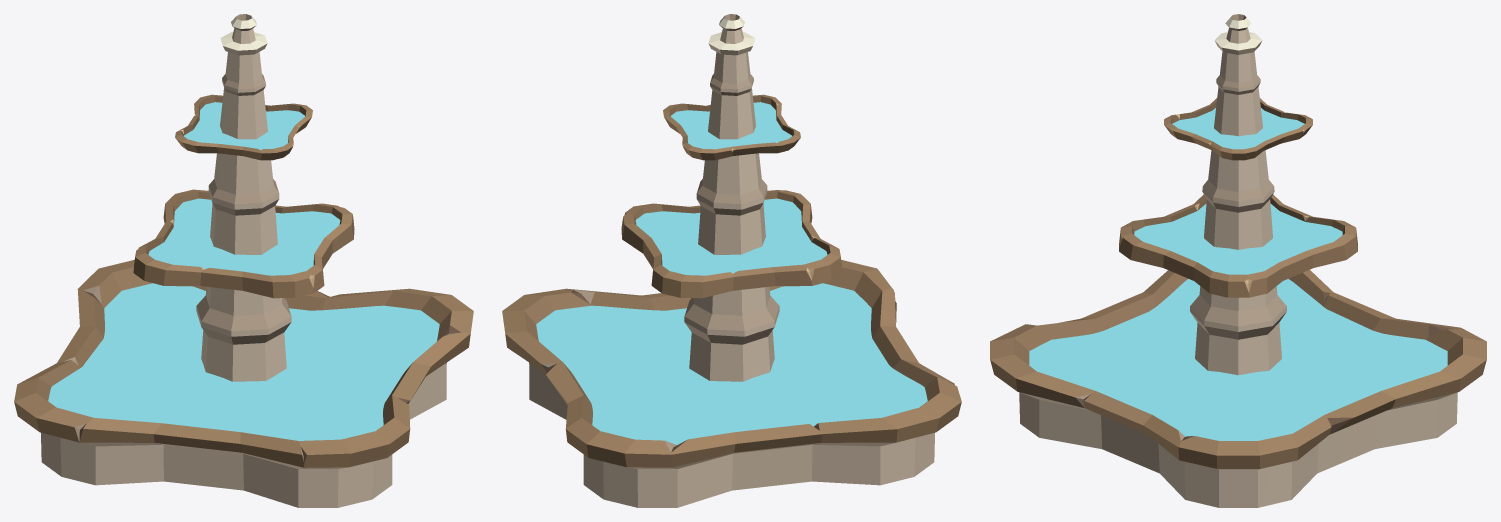
The model's file is Fountain_01.glb.
3 renders of one model, left to right at view 1: azimuth 30°, elevation 25°; view 2: azimuth 150°, elevation 25°; view 3: azimuth 270°, elevation 25°, orthographic.
Parts seen in each view (by area): view 1: Fountain_01; view 2: Fountain_01; view 3: Fountain_01.
Boxes of the visible parts, x1,y1,x2,y2 form: Fountain_01: (14, 14, 473, 507); Fountain_01: (502, 14, 961, 507); Fountain_01: (990, 14, 1486, 507).
Size of what is drawn, in the model's own units: 4.41 by 3.91 by 4.41.
Materials: 1 (1 with a texture image).
